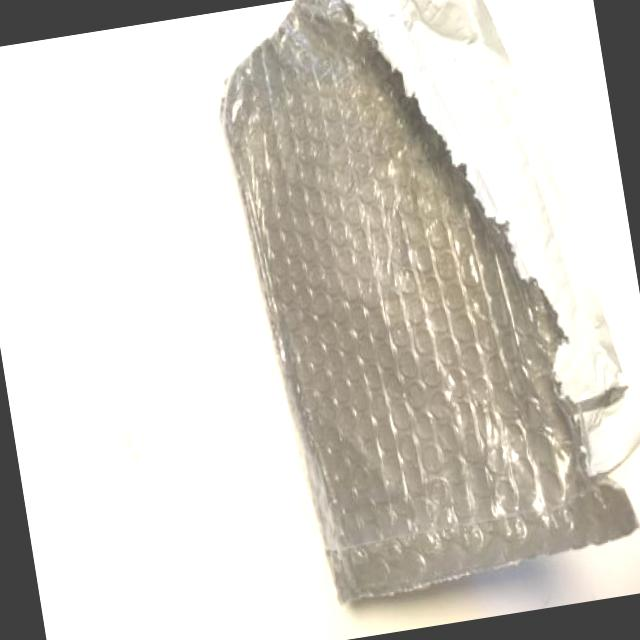Trash: (196, 0, 640, 628)
